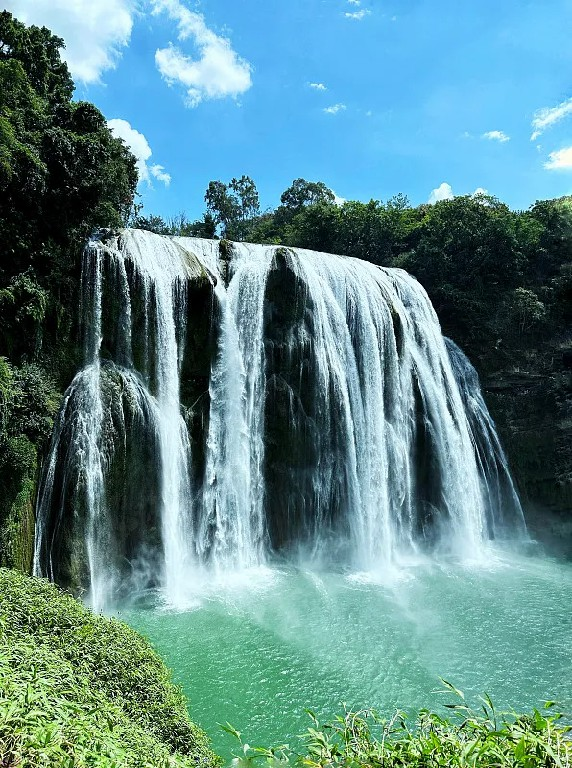Huangguoshu: (69, 227, 531, 609)
